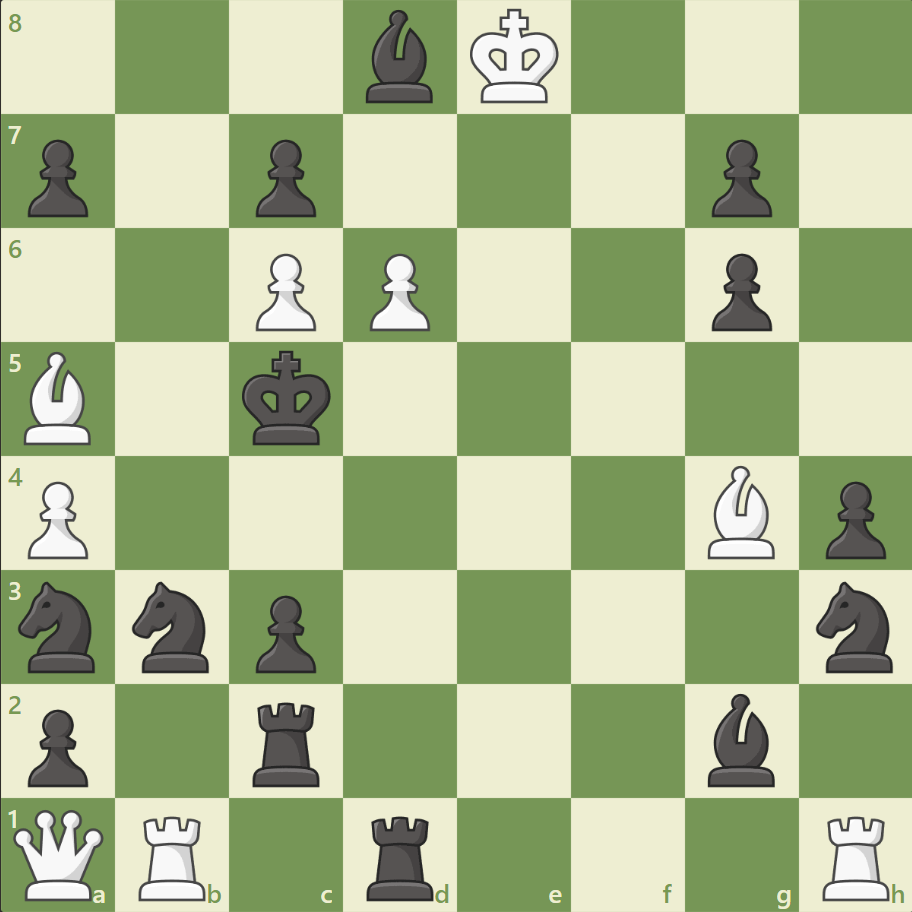B: (698, 460, 782, 563), (17, 347, 101, 449)
K: (465, 4, 565, 112)
P: (247, 246, 322, 337), (20, 473, 95, 564), (361, 246, 435, 337)
Q: (10, 804, 109, 903)
R: (814, 806, 897, 904), (133, 806, 215, 904)
b: (358, 6, 442, 109), (698, 687, 782, 790)
k: (238, 344, 338, 452)
n: (124, 575, 222, 677), (11, 575, 108, 677), (806, 575, 903, 677)
p: (20, 132, 95, 223), (247, 132, 322, 223), (701, 132, 776, 223), (701, 246, 776, 337), (247, 586, 322, 677), (20, 700, 95, 791), (815, 473, 889, 564)
r: (246, 693, 329, 790), (360, 806, 442, 904)
